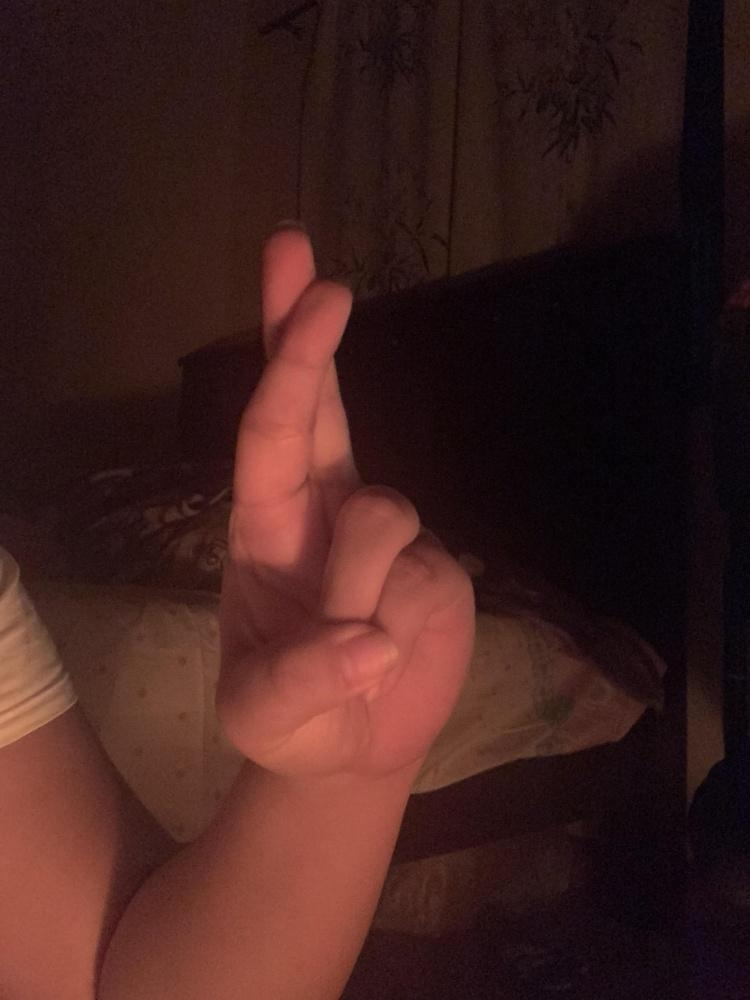r: (213, 219, 480, 783)
